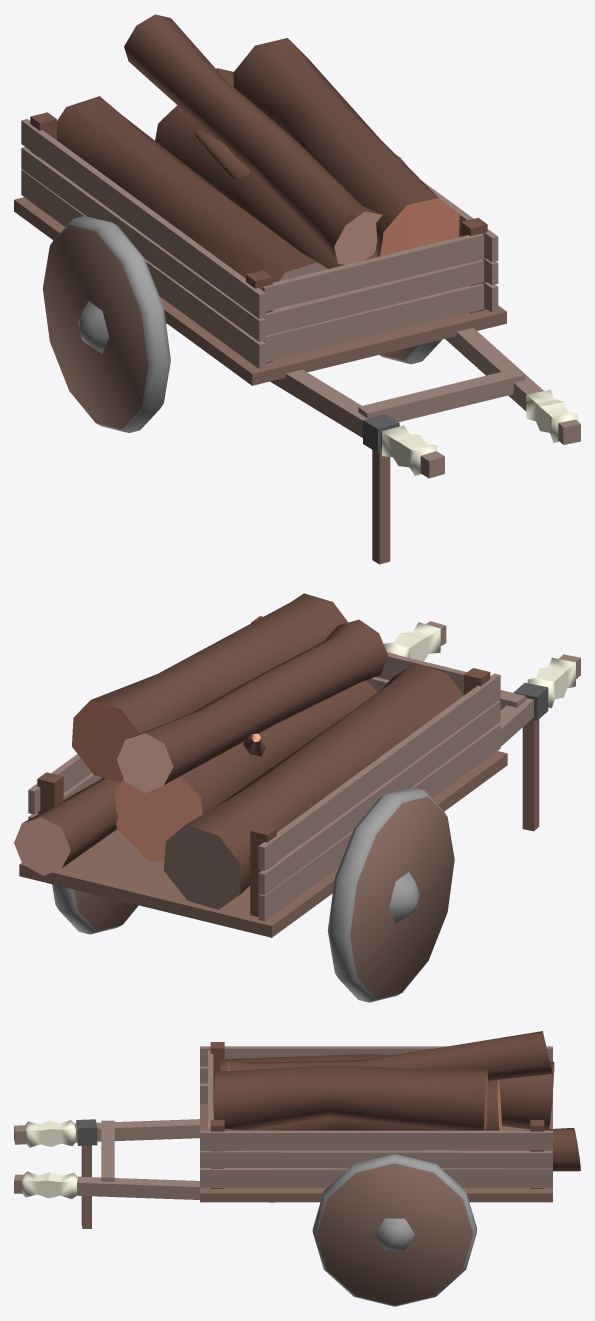
File: dray_004.glb
3 renders of one model, top to bottom at view 1: azimuth 30°, elevation 25°; view 2: azimuth 150°, elevation 25°; view 3: azimuth 270°, elevation 25°, orthographic. The views are drawn at different scales.
Parts seen in each view (by area): view 1: dray_004.001; view 2: dray_004.001; view 3: dray_004.001.
Boxes of the visible parts, bbox=[...] form: dray_004.001: bbox=[14, 14, 580, 564]; dray_004.001: bbox=[14, 593, 580, 1002]; dray_004.001: bbox=[14, 1031, 580, 1306].
Bounding box in the file's own units: 2.15 × 1.84 × 4.24.
1 material, 1 textured.
